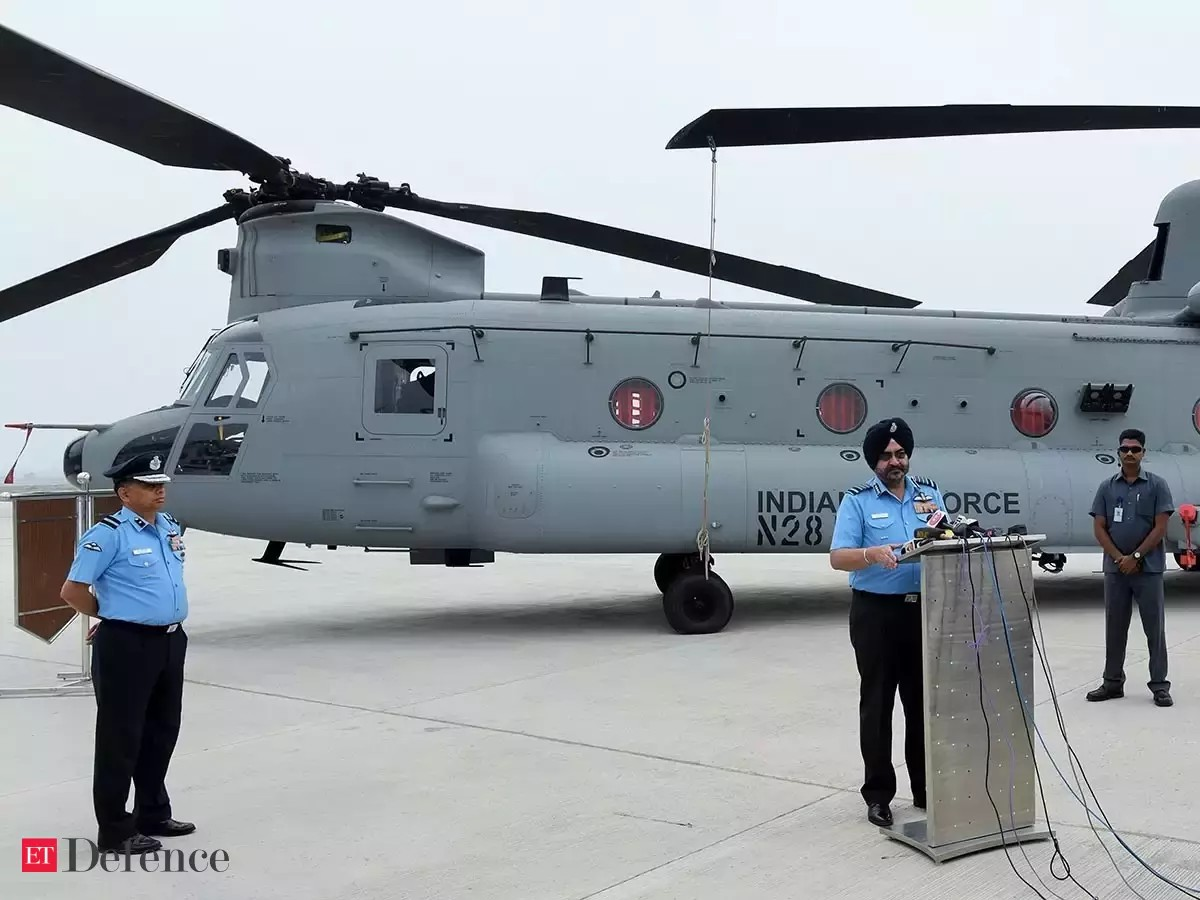chinook: (45, 81, 1200, 646)
